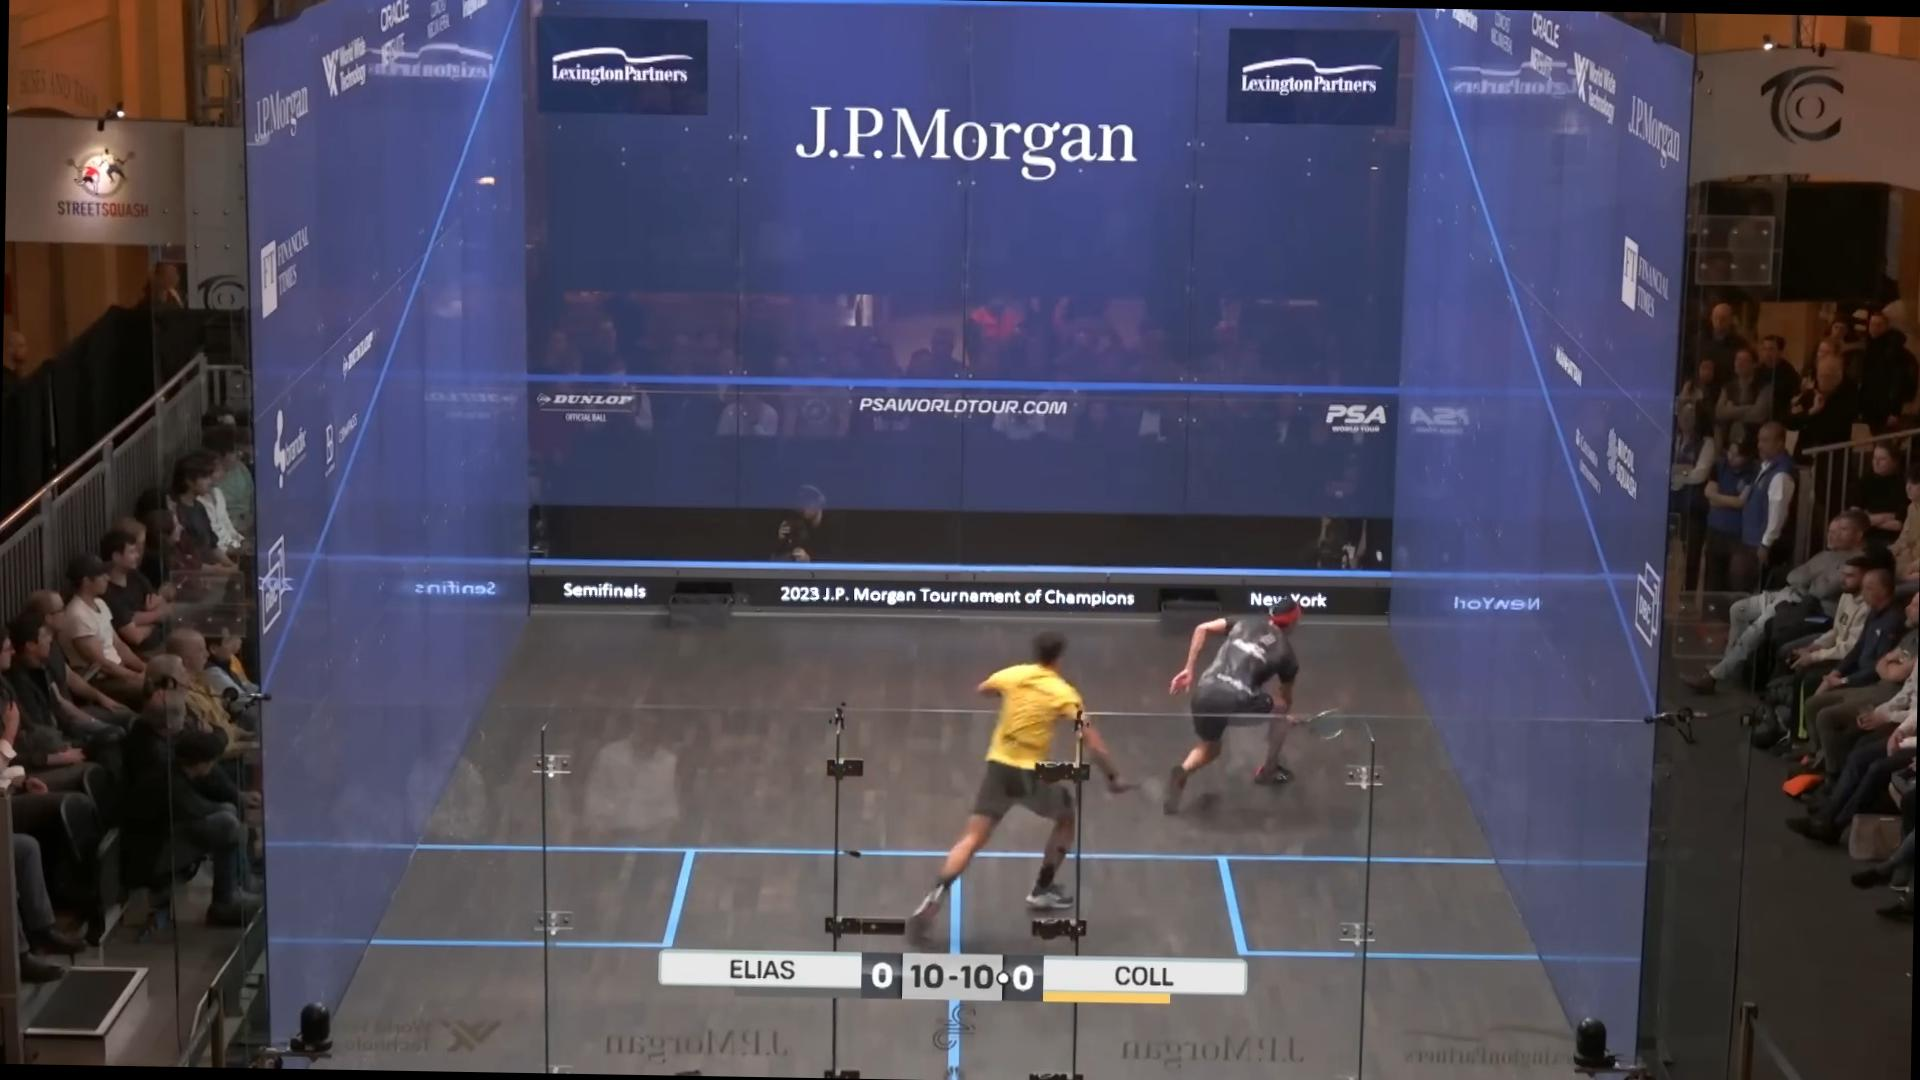Racket: (1276, 700, 1358, 749)
